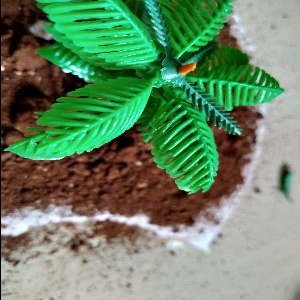plant: (21, 1, 267, 197)
